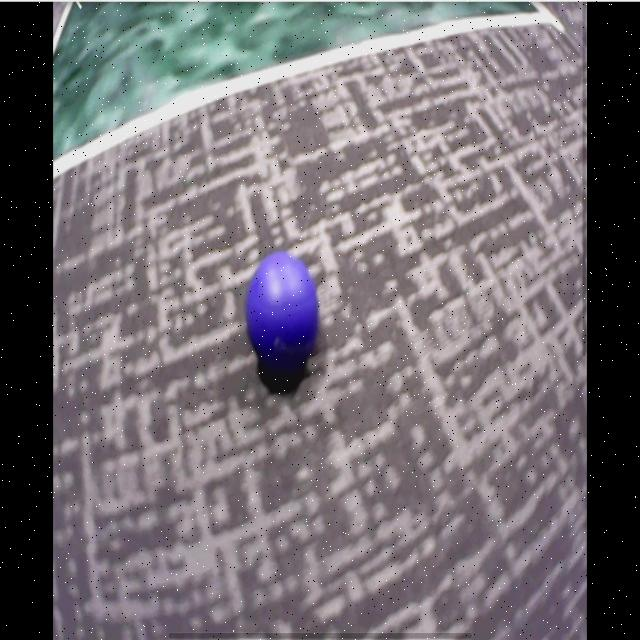ball: (247, 253, 319, 365)
